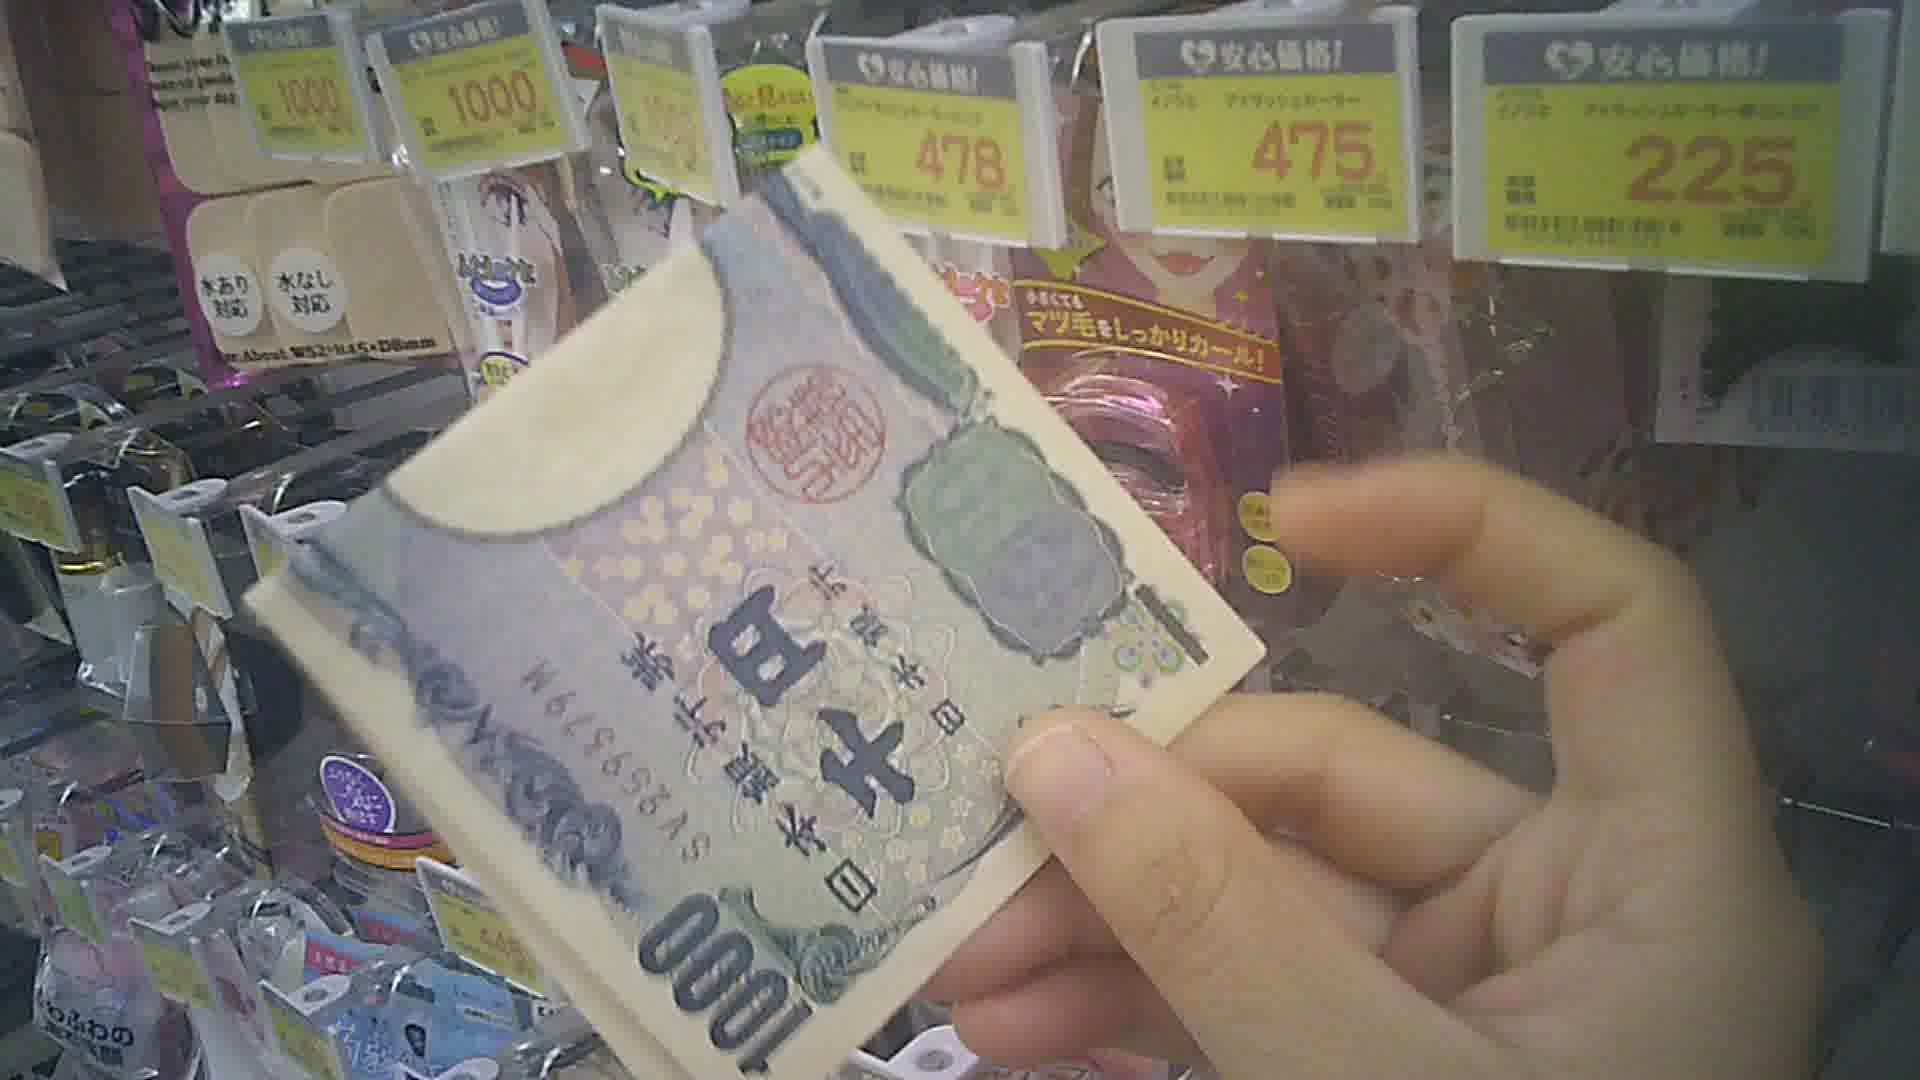1,000 Yen: (245, 137, 1269, 1063)
